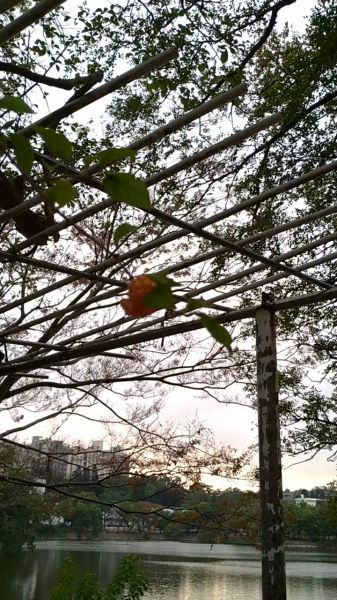eggs: (117, 270, 164, 322)
